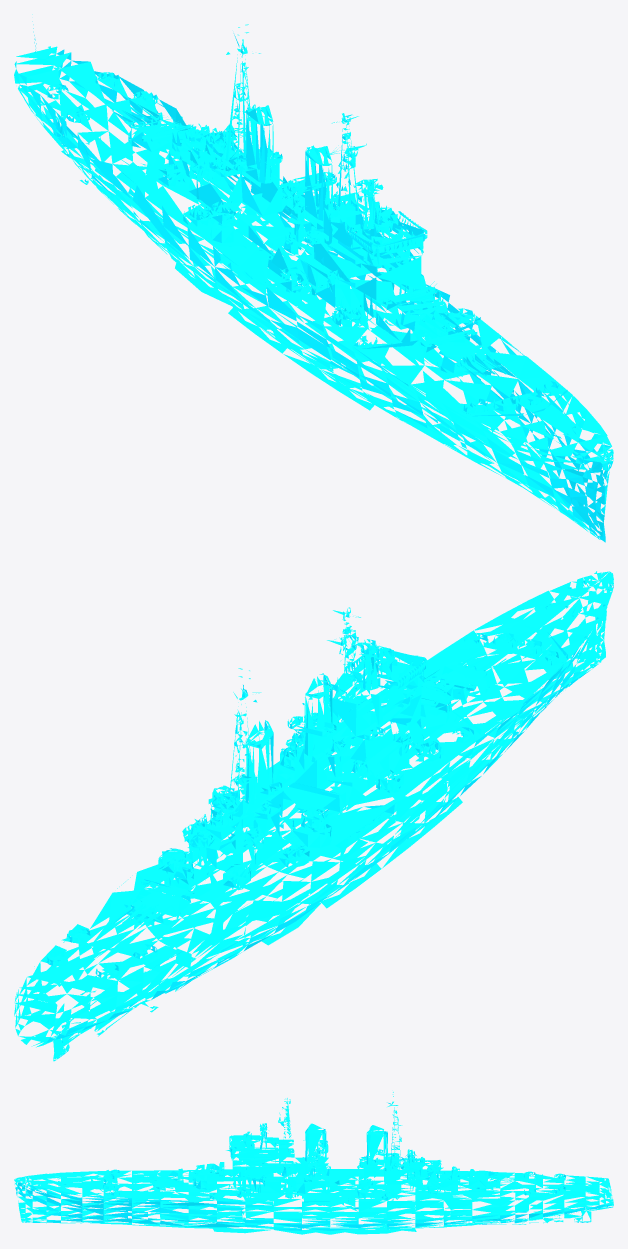
Rendered from Monmouth.glb.
3 views of the same model, one above another, from view 1: azimuth 30°, elevation 25°; view 2: azimuth 150°, elevation 25°; view 3: azimuth 270°, elevation 25° (orthographic). The views are drawn at different scales.
Size of the model in its own units: 1.94 by 3.55 by 14.7.
